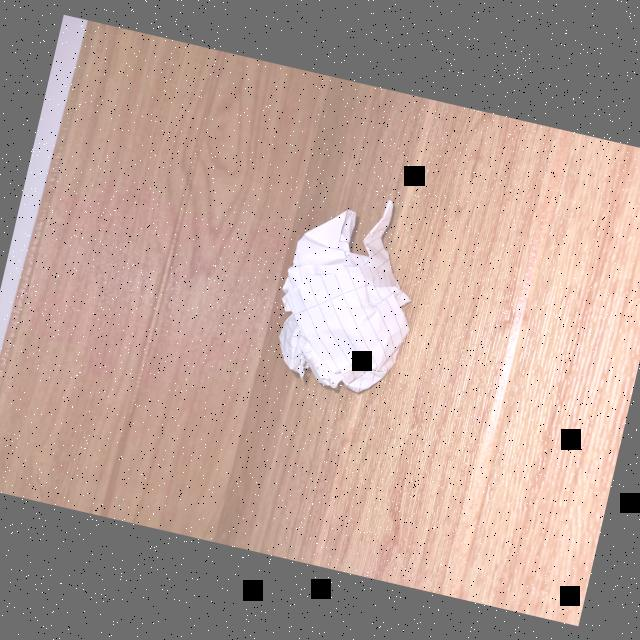scrap_paper: (266, 202, 431, 404)
